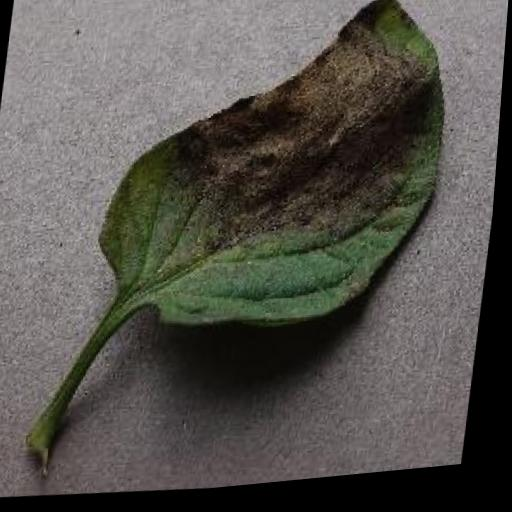Late Blight: (92, 0, 467, 352)
